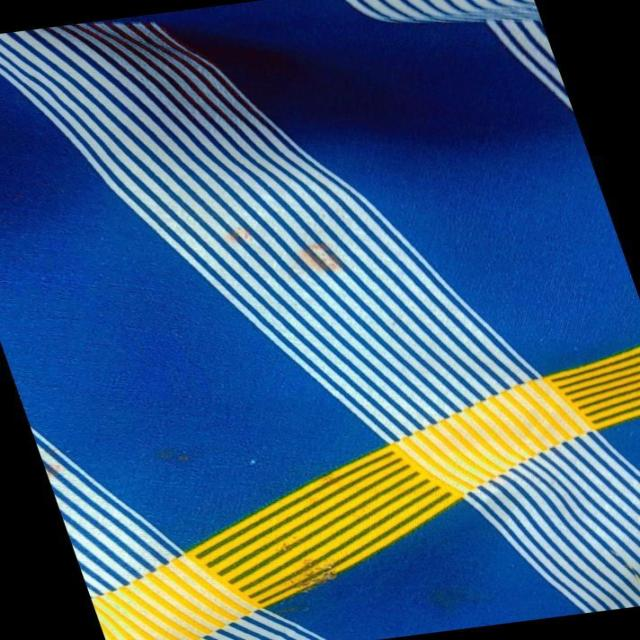stain: (205, 203, 368, 290), (400, 568, 506, 623), (135, 432, 220, 472)
